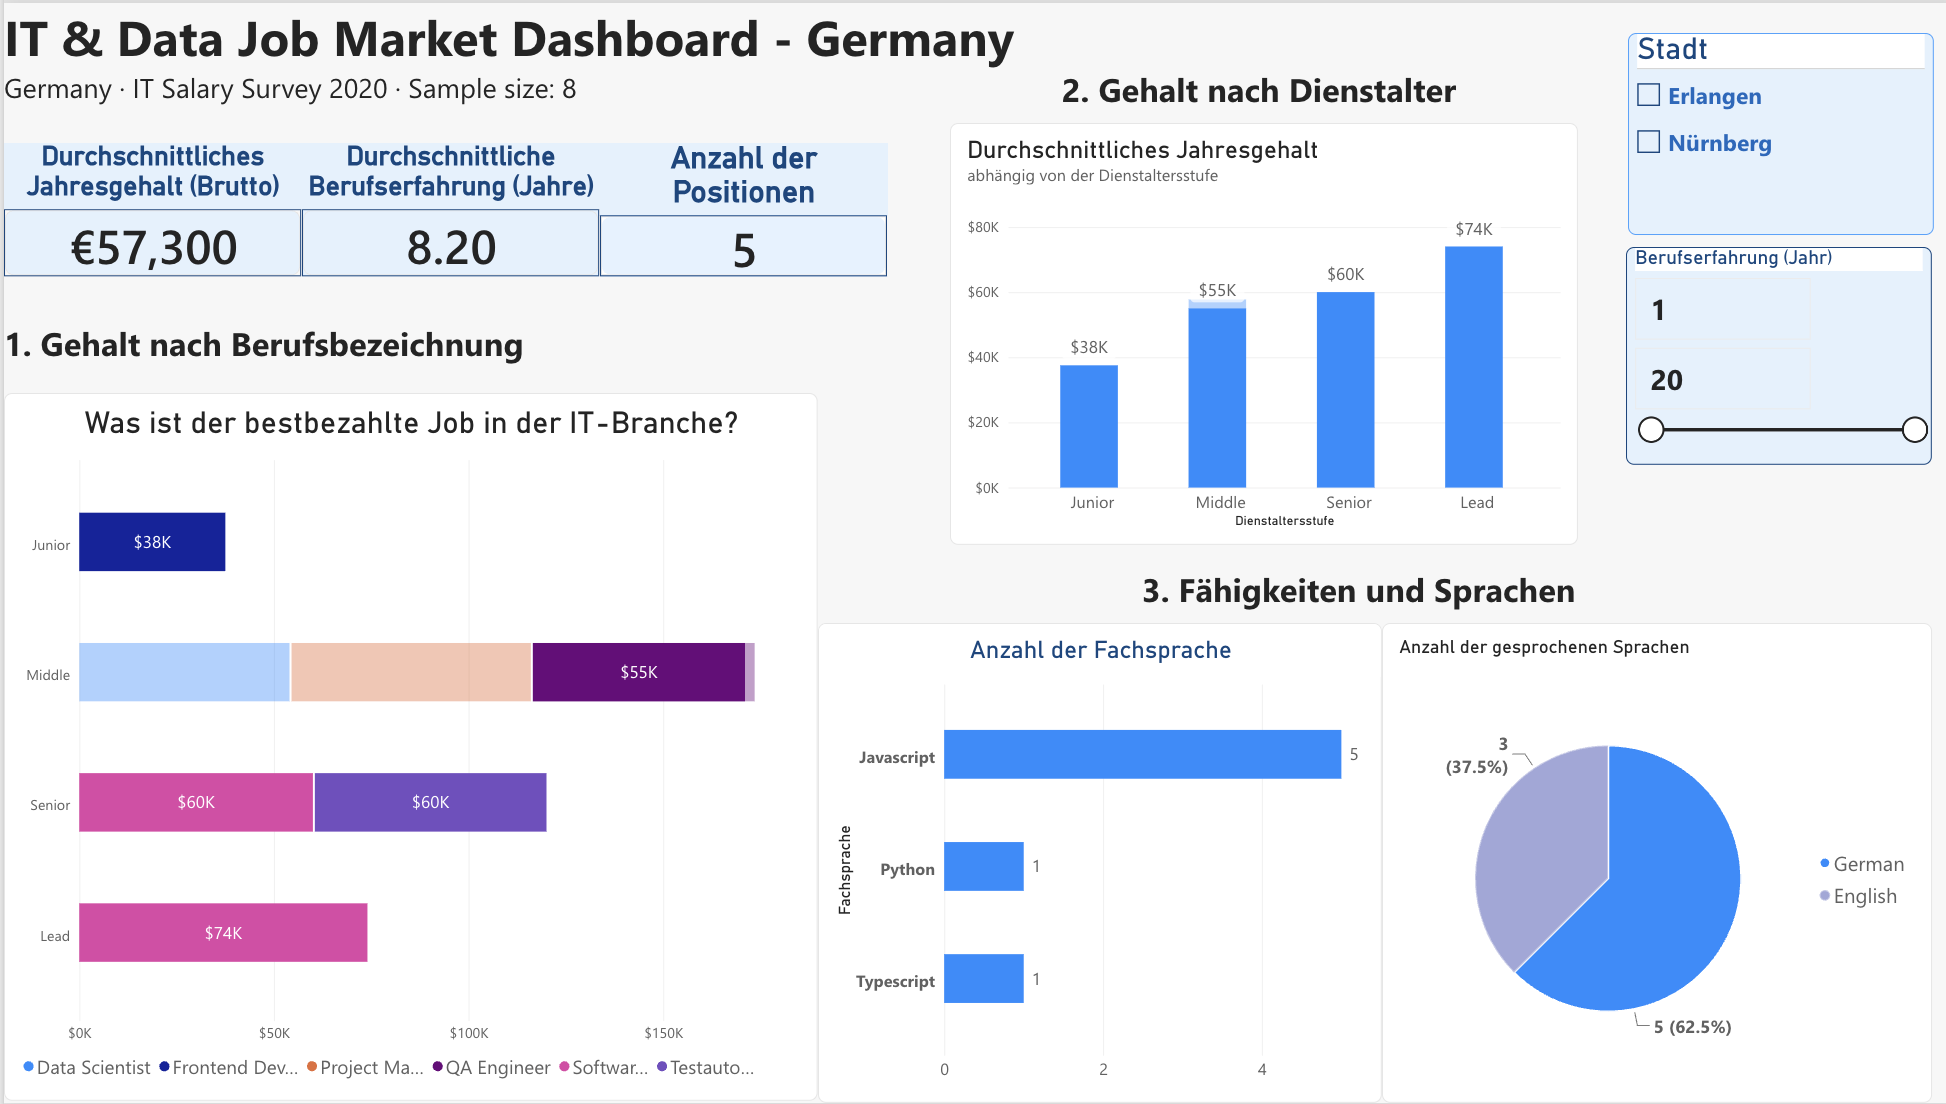

Layout of this report page (visuals, bound fields, positions):
{"tool":"powerbi","page":{"name":"Page 1","canvas":[1920,1080],"ordinal":0},"visuals":[{"type":"lineStackedColumnComboChart","title":"Durchschnittliches Jahresgehalt ","fields":{"Category":["it_salaries_2020_nuremberg 5.seniority_level"],"Y":["Avg(it_salaries_2020_nuremberg 5.salary_base)"]},"box":[929.5,117.9,617.1,414.7],"z":0},{"type":"barChart","title":"Was ist der bestbezahlte Job in der IT-Branche?","fields":{"Category":["it_salaries_2020_nuremberg 5.seniority_level"],"Series":["it_salaries_2020_nuremberg 5.position"],"Y":["Avg(it_salaries_2020_nuremberg 5.salary_base)"]},"box":[0,383.1,799.4,695.4],"z":1},{"type":"cardVisual","title":"Durchschnittliches Jahresgehalt (Brutto)","fields":{"Data":["it_salaries_2020_nuremberg 5.Durchschnitt Gehalt EUR"]},"box":[0,137.6,292.8,131.7],"z":2},{"type":"cardVisual","title":"Durchschnittliche Berufserfahrung (Jahre)","fields":{"Data":["Avg(it_salaries_2020_nuremberg 5.exp_years_total)"]},"box":[292.8,137.6,292.8,131.7],"z":3},{"type":"cardVisual","title":"Anzahl der Positionen","fields":{"Data":["it_salaries_2020_nuremberg 5.position Count"]},"box":[585.6,137.6,283,131.7],"z":4},{"type":"clusteredBarChart","title":"Anzahl der Fachsprache","fields":{"Category":["maintech_split 1.main_tech_split"],"Y":["maintech_split 1.maintechsplit count"]},"box":[799.8,609.2,554.2,471.6],"z":5},{"type":"pieChart","title":"Anzahl der gesprochenen Sprachen","fields":{"Category":["it_salaries_2020_nuremberg 5.work_language"],"Y":["it_salaries_2020_nuremberg 5.work languagues count"]},"box":[1354,609.2,540.4,471.6],"z":6},{"type":"textbox","box":[0,0,1076.9,117.9],"z":7},{"type":"slicer","fields":{"Values":["it_salaries_2020_nuremberg 5.city"]},"box":[1595.7,29.5,300.7,198.5],"z":8},{"type":"slicer","fields":{"Values":["it_salaries_2020_nuremberg 5.exp_years_total"]},"box":[1593.8,239.8,300.7,200.5],"z":9},{"type":"textbox","box":[0,312.5,538.5,53.1],"z":10},{"type":"textbox","box":[919.7,62.9,626.9,66.8],"z":11},{"type":"textbox","box":[1118.2,554.2,571.9,78.6],"z":12}]}

Visuals, with their boxes in screenshot pixels (x1, y1, x2, y2), scaled from the page's 1920x1080 canvas onto the 1946x1104 screenshot:
"Durchschnittliches Jahresgehalt " lineStackedColumnComboChart: 942 121 1568 544
"Was ist der bestbezahlte Job in der IT-Branche?" barChart: 0 392 810 1102
"Durchschnittliches Jahresgehalt (Brutto)" cardVisual: 0 141 297 275
"Durchschnittliche Berufserfahrung (Jahre)" cardVisual: 297 141 594 275
"Anzahl der Positionen" cardVisual: 594 141 880 275
"Anzahl der Fachsprache" clusteredBarChart: 811 623 1372 1103
"Anzahl der gesprochenen Sprachen" pieChart: 1372 623 1920 1103
textbox: 0 0 1091 121
slicer - it_salaries_2020_nuremberg 5.city: 1617 30 1922 233
slicer - it_salaries_2020_nuremberg 5.exp_years_total: 1615 245 1920 450
textbox: 0 319 546 374
textbox: 932 64 1568 133
textbox: 1133 567 1713 647
